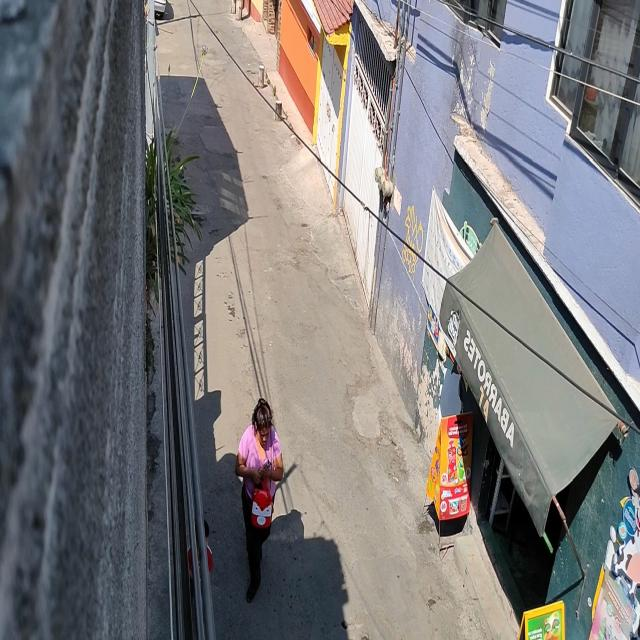adult: (234, 398, 285, 604)
